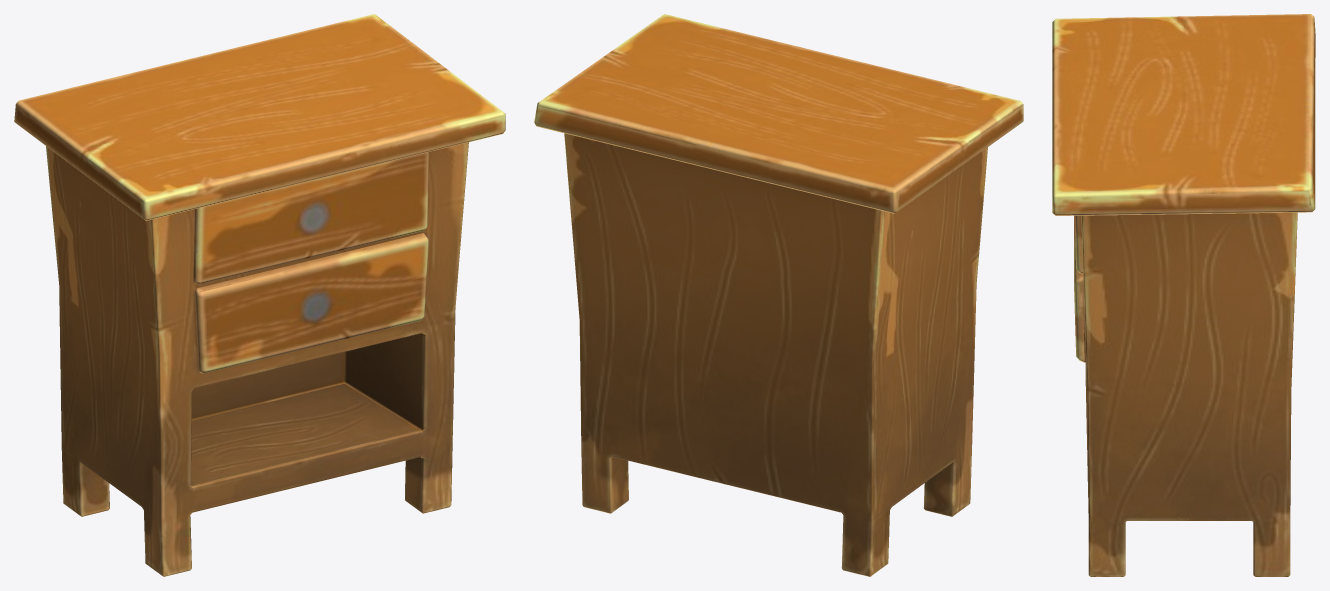
Rendered from SM_Nightstand001.glb.
3 renders of one model, left to right at view 1: azimuth 30°, elevation 25°; view 2: azimuth 150°, elevation 25°; view 3: azimuth 270°, elevation 25°, orthographic.
Parts seen in each view (by area): view 1: SM_Nighstand001_lp; view 2: SM_Nighstand001_lp; view 3: SM_Nighstand001_lp.
Boxes of the visible parts, x1,y1,x2,y2 form: SM_Nighstand001_lp: (14,14,505,576); SM_Nighstand001_lp: (534,14,1023,576); SM_Nighstand001_lp: (1052,14,1315,576).
Size of the model in its own units: 0.9358 by 0.9976 by 0.5844.
Materials: 1 (1 with a texture image).
